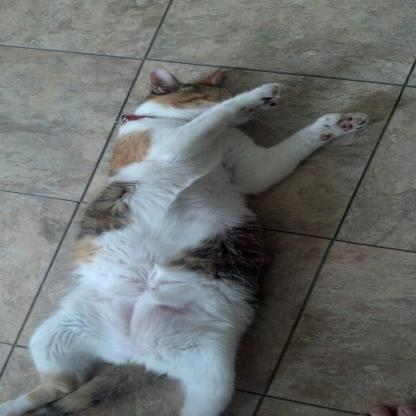Target: (0, 60, 366, 414)
